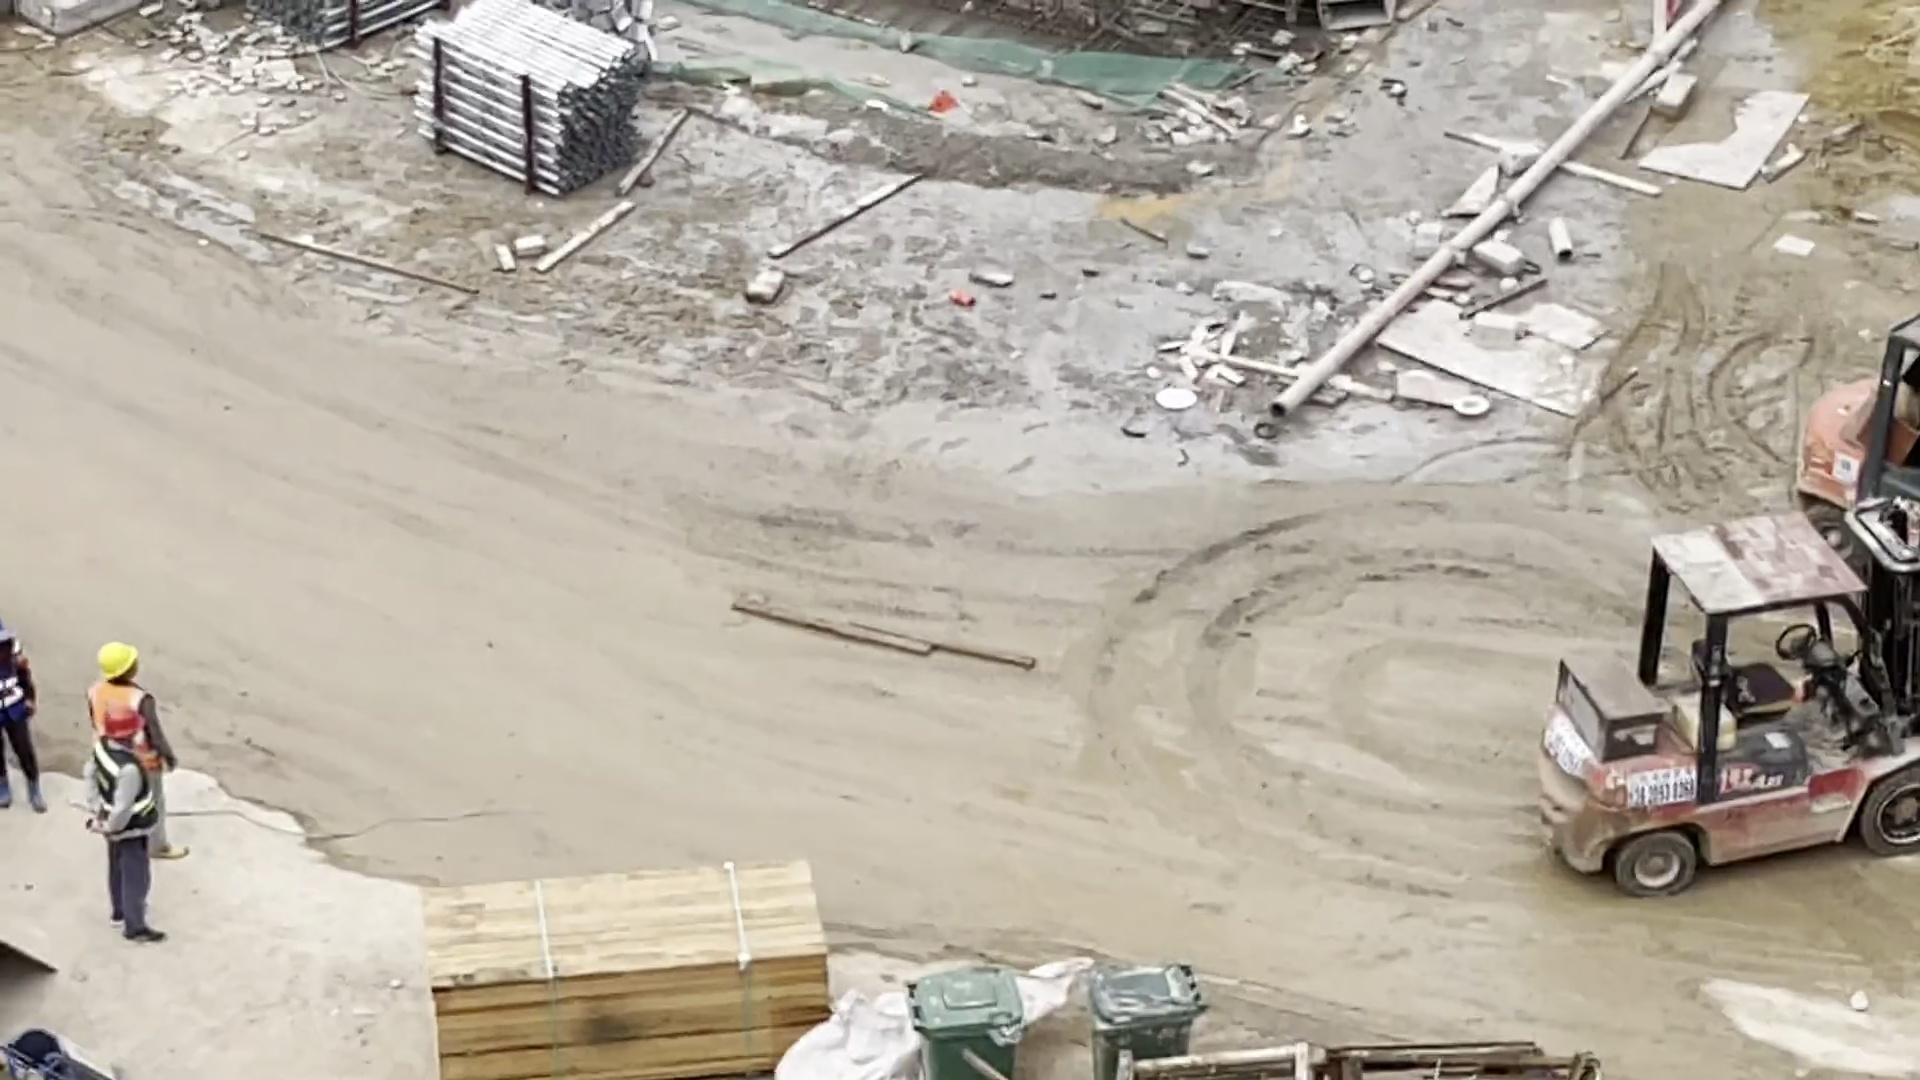helmet: (85, 691, 167, 749), (81, 637, 148, 683)
person: (70, 693, 244, 965), (74, 626, 233, 862), (1, 603, 65, 829)
scaffold: (398, 4, 673, 197), (240, 1, 444, 47)
vest: (68, 678, 176, 772), (91, 738, 175, 843), (2, 627, 31, 738)
wood: (415, 862, 847, 1080)
